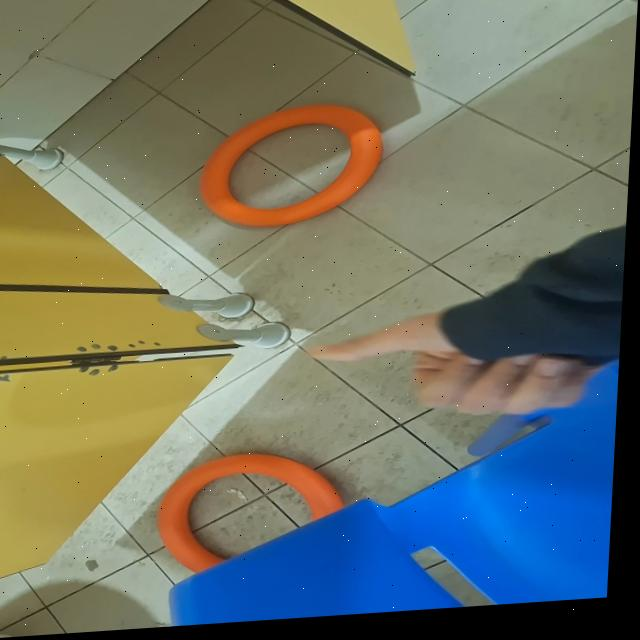note: (160, 451, 354, 580), (199, 104, 389, 235)
